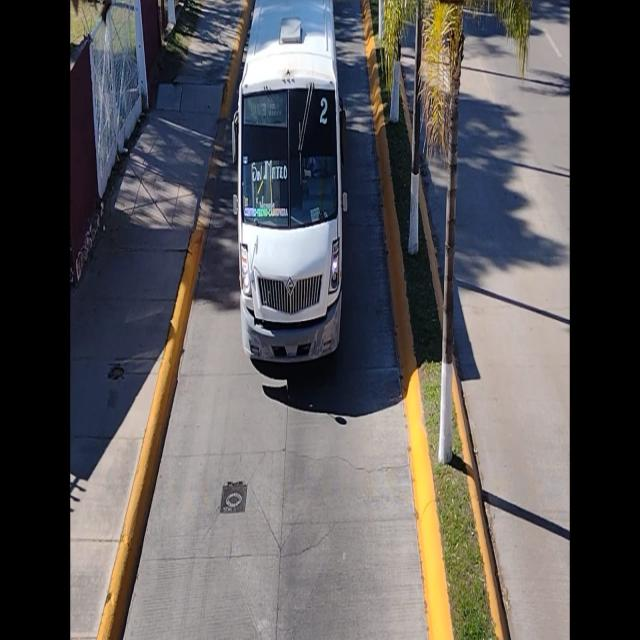Autobus: (232, 0, 345, 370)
